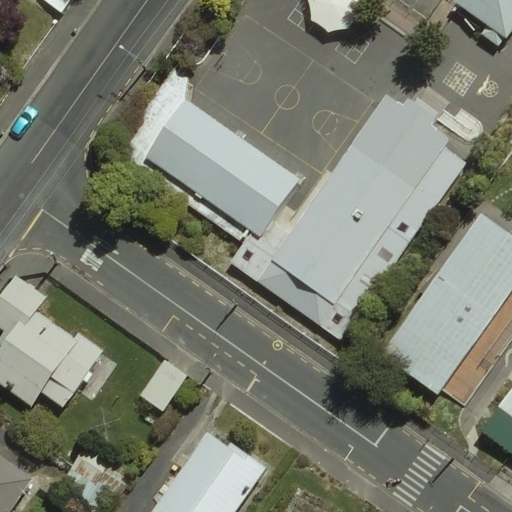DT: (115, 37, 154, 83)
